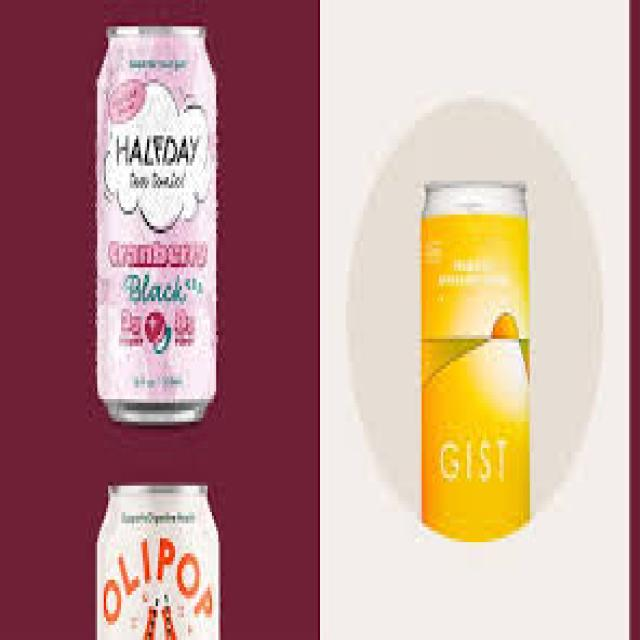Cans: (74, 4, 235, 436), (411, 173, 540, 546)
